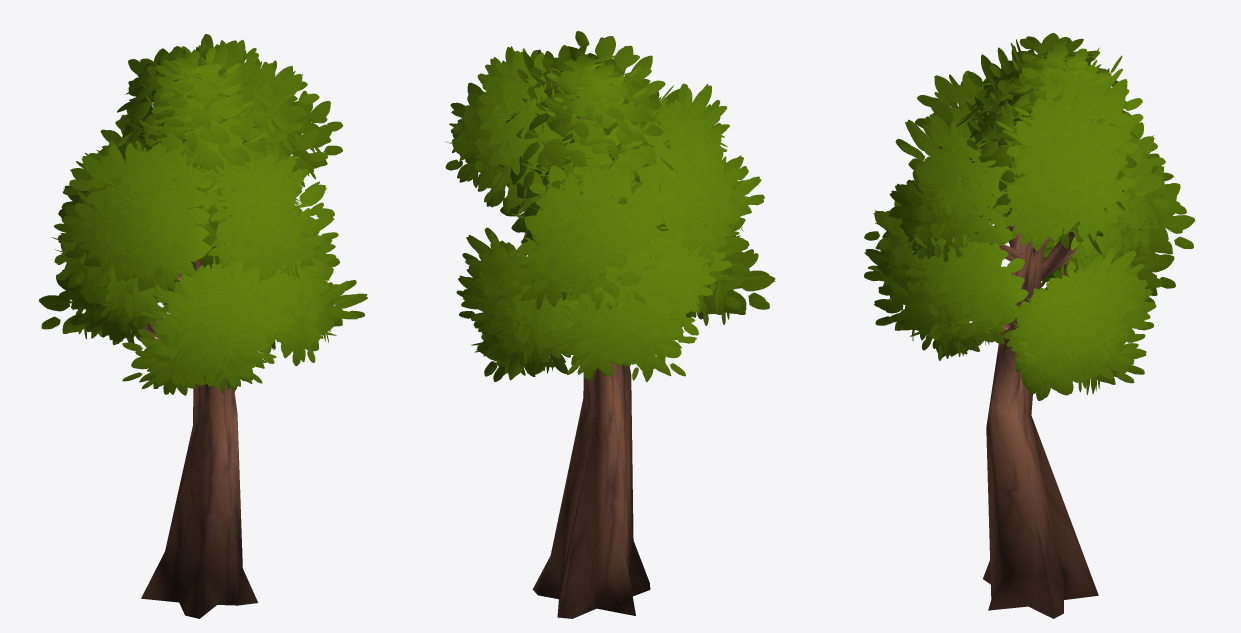
Rendered from commontree-1.glb.
The picture shows the model from 3 angles, left to right: view 1: azimuth 30°, elevation 25°; view 2: azimuth 150°, elevation 25°; view 3: azimuth 270°, elevation 25°; orthographic projection. The views are drawn at different scales.
Parts seen in each view (by area): view 1: CommonTree_1; view 2: CommonTree_1; view 3: CommonTree_1.
Boxes of the visible parts, x1,y1,x2,y2 form: CommonTree_1: (38, 34, 367, 618); CommonTree_1: (445, 31, 775, 618); CommonTree_1: (864, 33, 1195, 618).
Bounding box in the file's own units: 4.31 × 7.28 × 4.58.
Materials: 2 (2 with a texture image).
